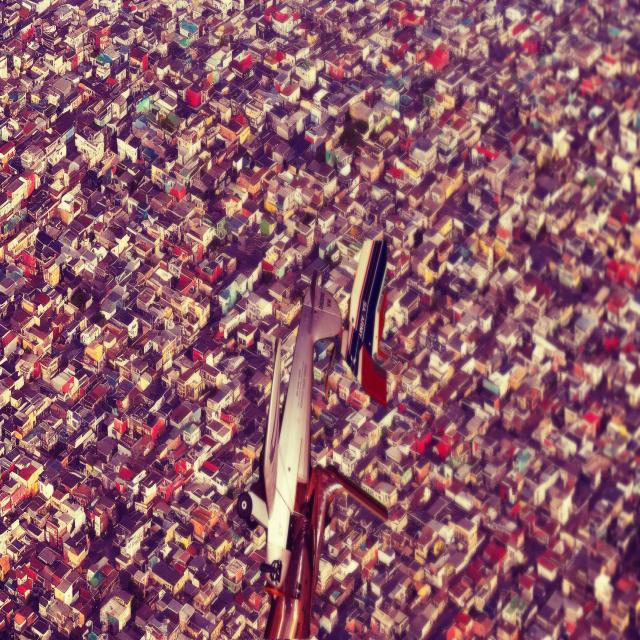airplane: (236, 240, 387, 639)
